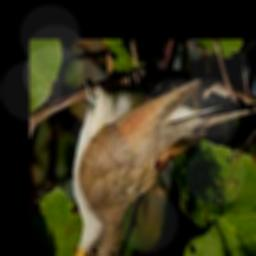Cuckoo: (62, 79, 221, 256)
